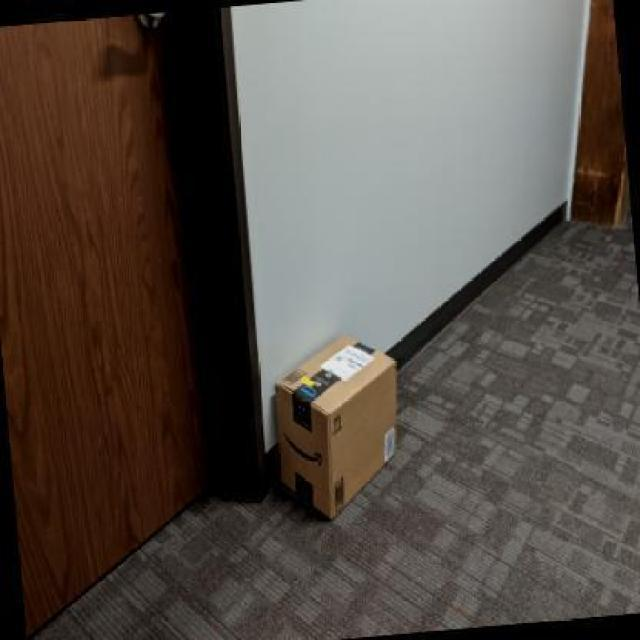box: (278, 330, 398, 521)
